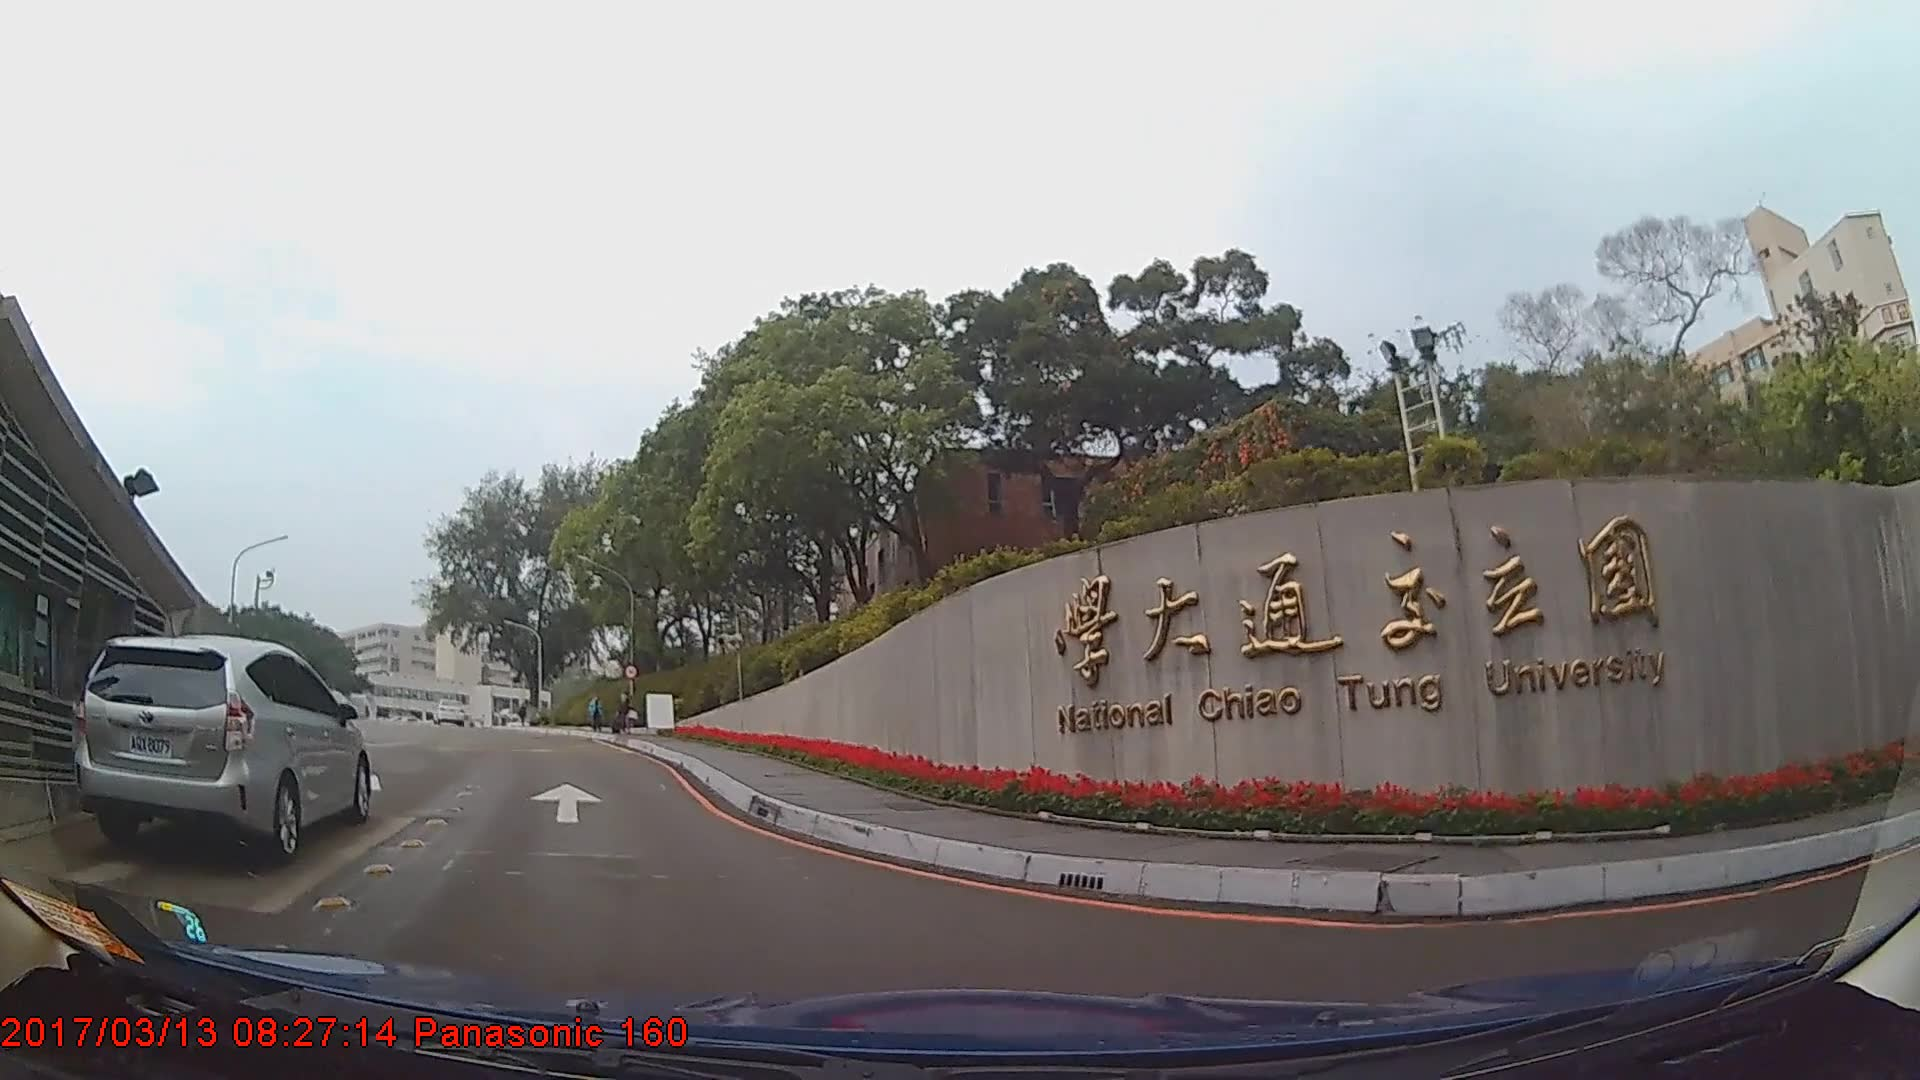vehicle: (71, 630, 371, 855), (429, 695, 464, 723)
